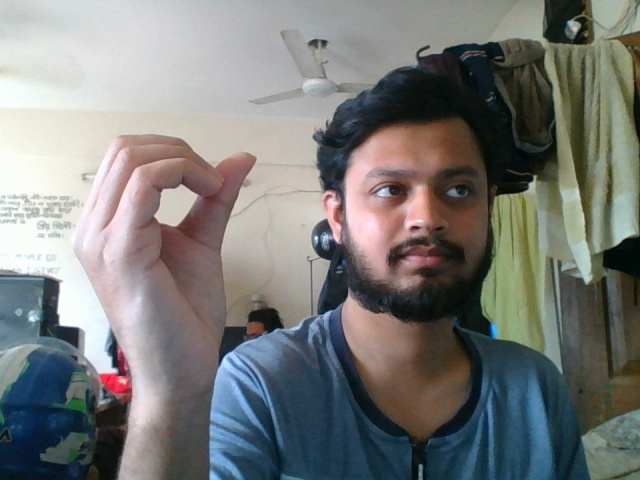ae: (66, 113, 269, 436)
